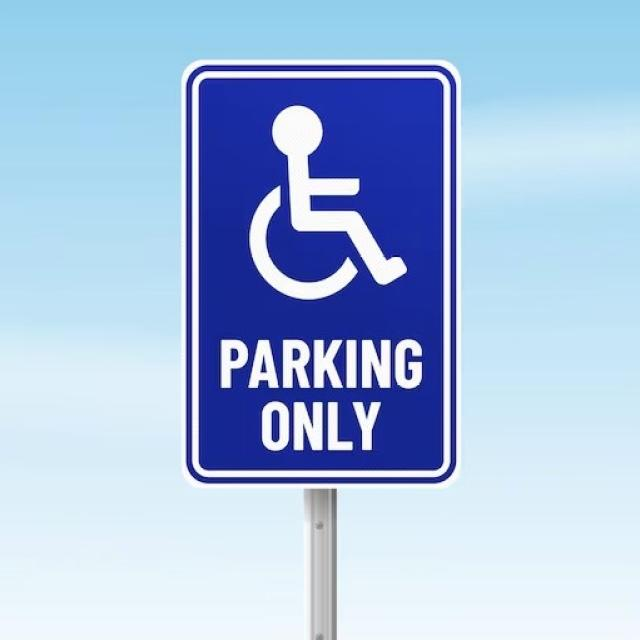symbol_of_access: (218, 88, 416, 320)
